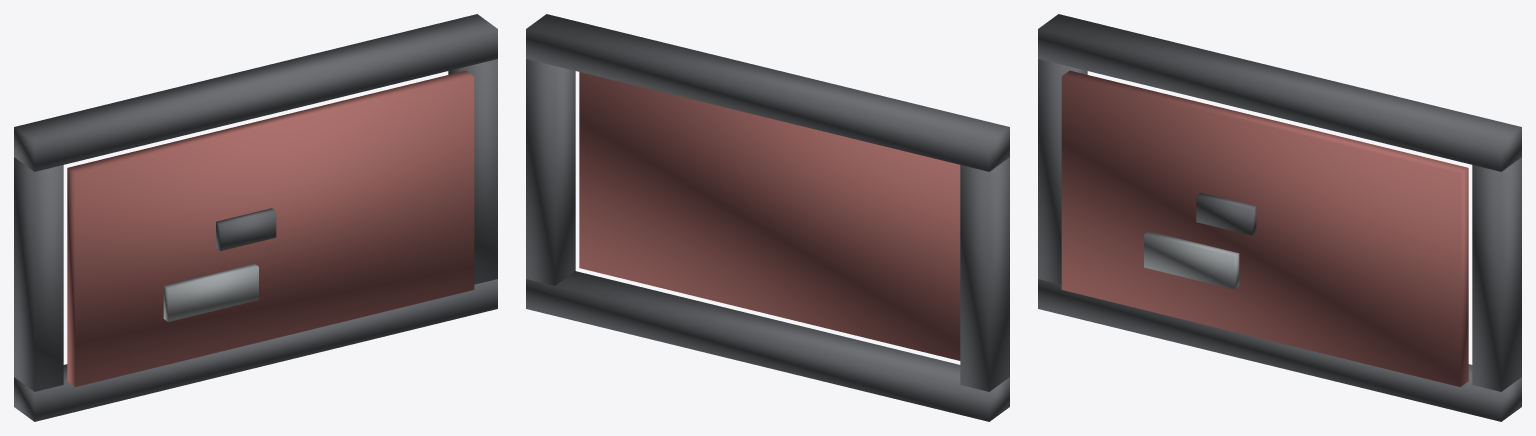
The model's file is on_air_wall_sign__weathered.glb.
3 renders of one model, left to right at view 1: azimuth 30°, elevation 25°; view 2: azimuth 150°, elevation 25°; view 3: azimuth 330°, elevation 25°, orthographic.
Visible parts, largest first — view 1: world; view 2: world; view 3: world.
Boxes of the visible parts, <box> form: world: <box>14,14,497,421</box>; world: <box>526,14,1009,421</box>; world: <box>1038,14,1521,421</box>.
Size of the model in its own units: 0.72 by 0.4158 by 0.0925.
